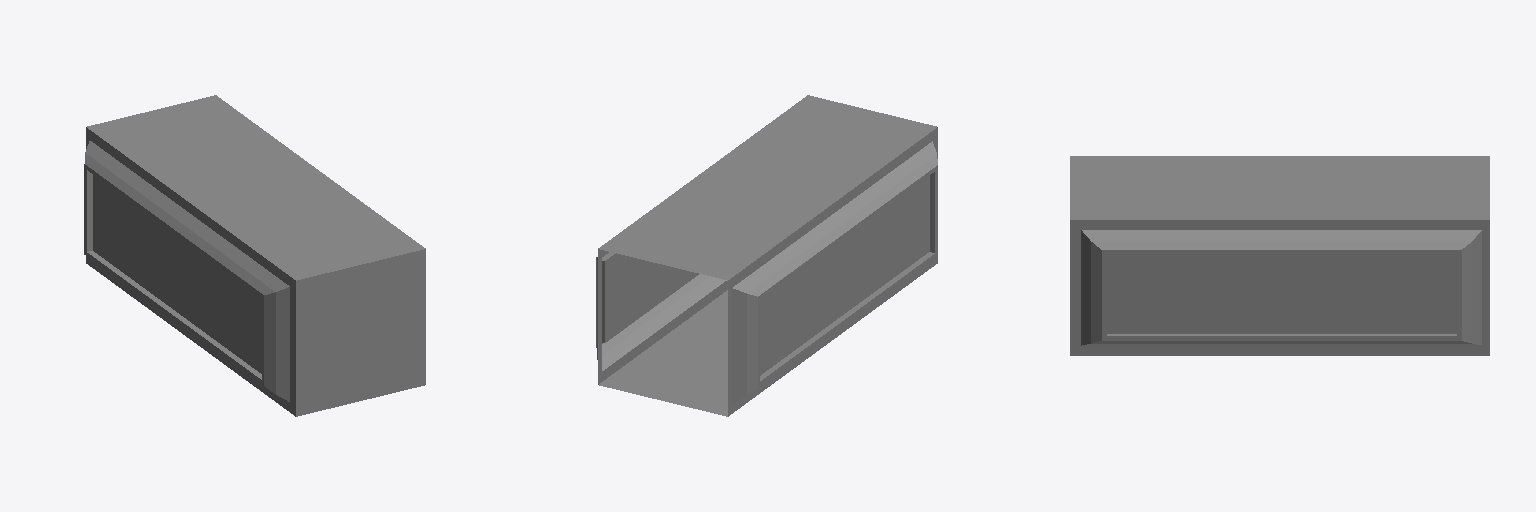
File: Server.obj
3 renders of one model, left to right at view 1: azimuth 30°, elevation 25°; view 2: azimuth 150°, elevation 25°; view 3: azimuth 270°, elevation 25°, orthographic.
Parts seen in each view (by area): view 1: SM_RackServer_E; view 2: SM_RackServer_E; view 3: SM_RackServer_E.
Boxes of the visible parts, x1,y1,x2,y2 form: SM_RackServer_E: [84, 95, 425, 416]; SM_RackServer_E: [596, 95, 937, 416]; SM_RackServer_E: [1070, 156, 1489, 355].
Bounding box in the file's own units: 39.31 × 31.68 × 88.58.